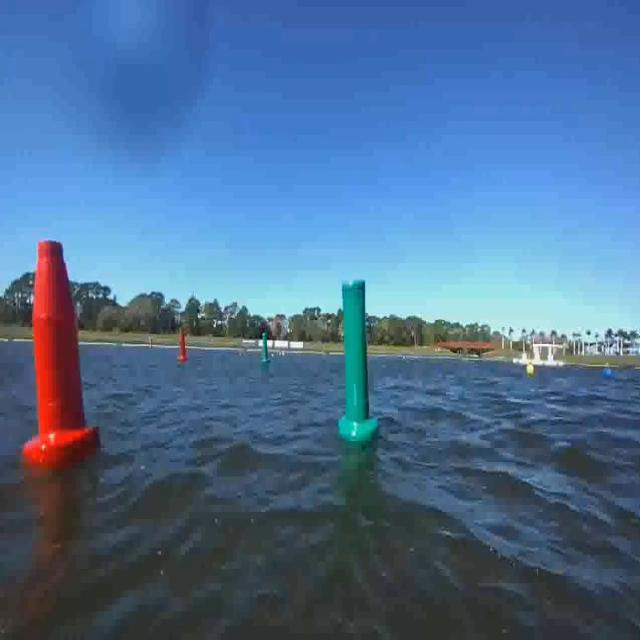blue-buoy: (602, 366, 612, 380)
green-column-buoy: (340, 275, 379, 439), (262, 332, 272, 365)
red-column-buoy: (27, 239, 102, 468), (180, 330, 191, 363)
yellow-buoy: (526, 362, 535, 378)
